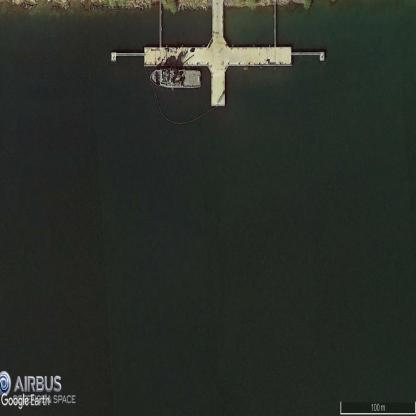ship: (150, 68, 201, 88), (243, 67, 248, 71)
